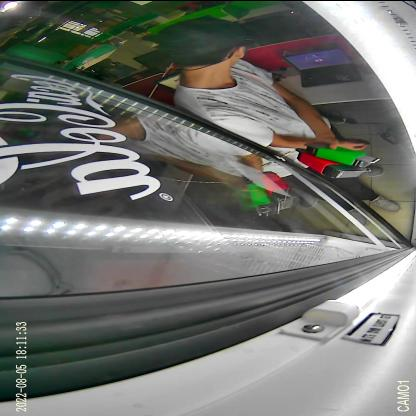green: (304, 140, 382, 166)
red: (295, 147, 372, 177)
